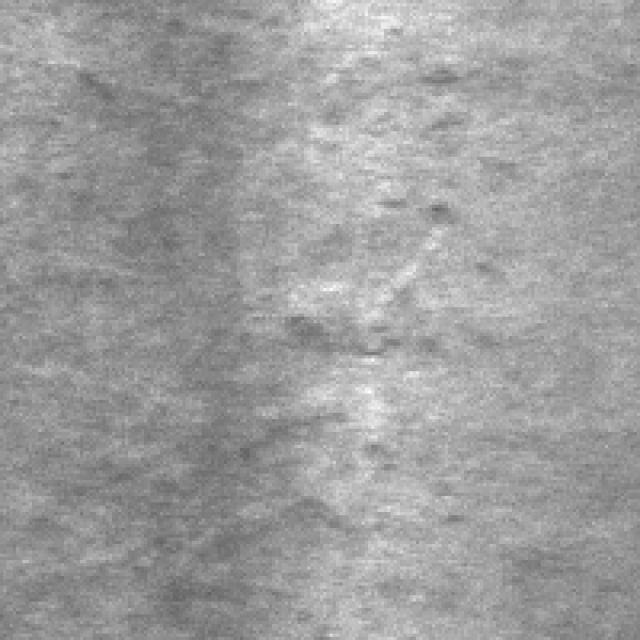rolled-in_scale: (352, 54, 506, 221)
